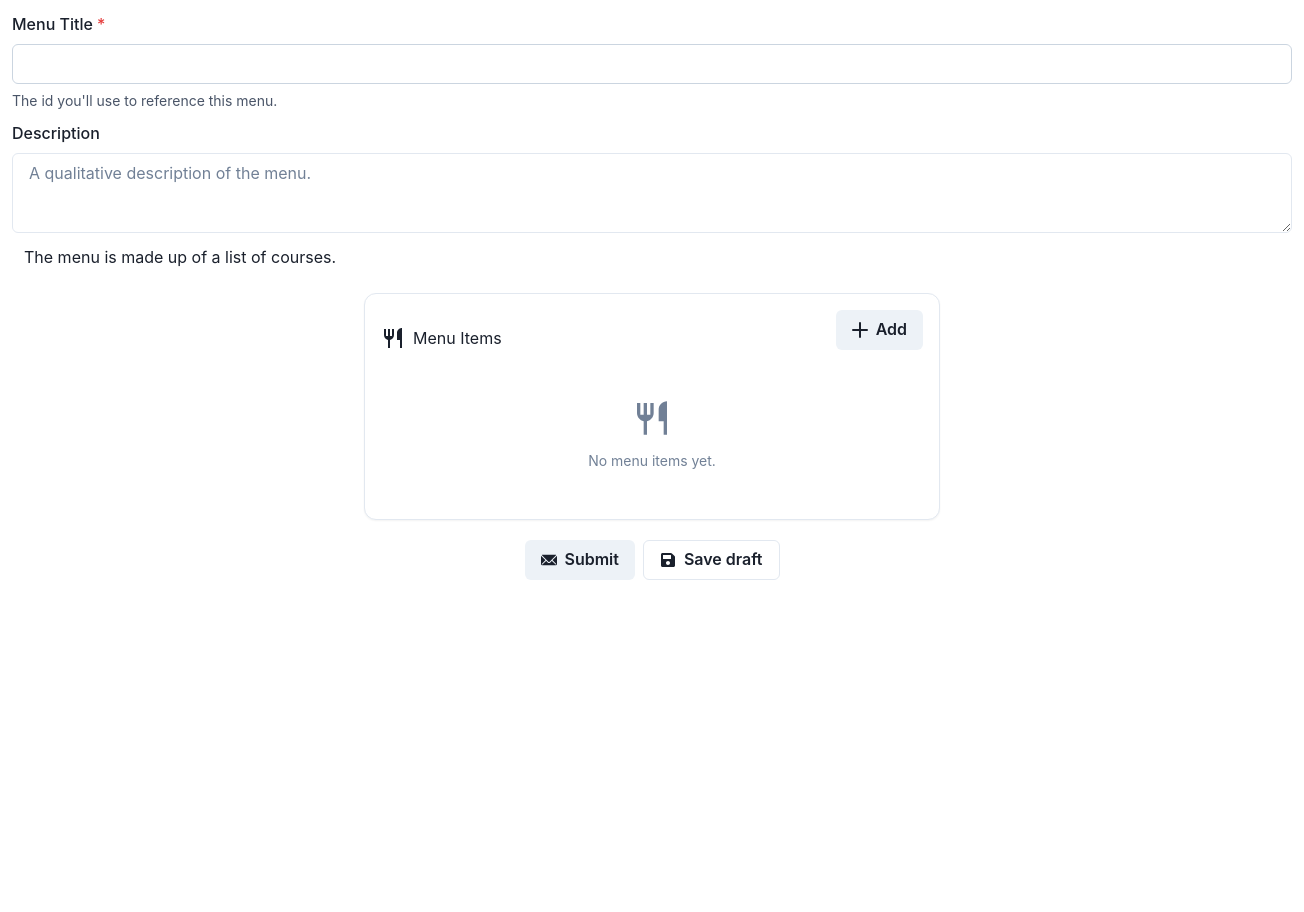
Test: MenuRequestForm › Submit functionality › requires dishes when submitting (not draft)
Enter title
Type "My Menu" into the field labelled "Menu Title*".
click(652, 64); type("My Menu")  # box [12, 44, 1292, 84]
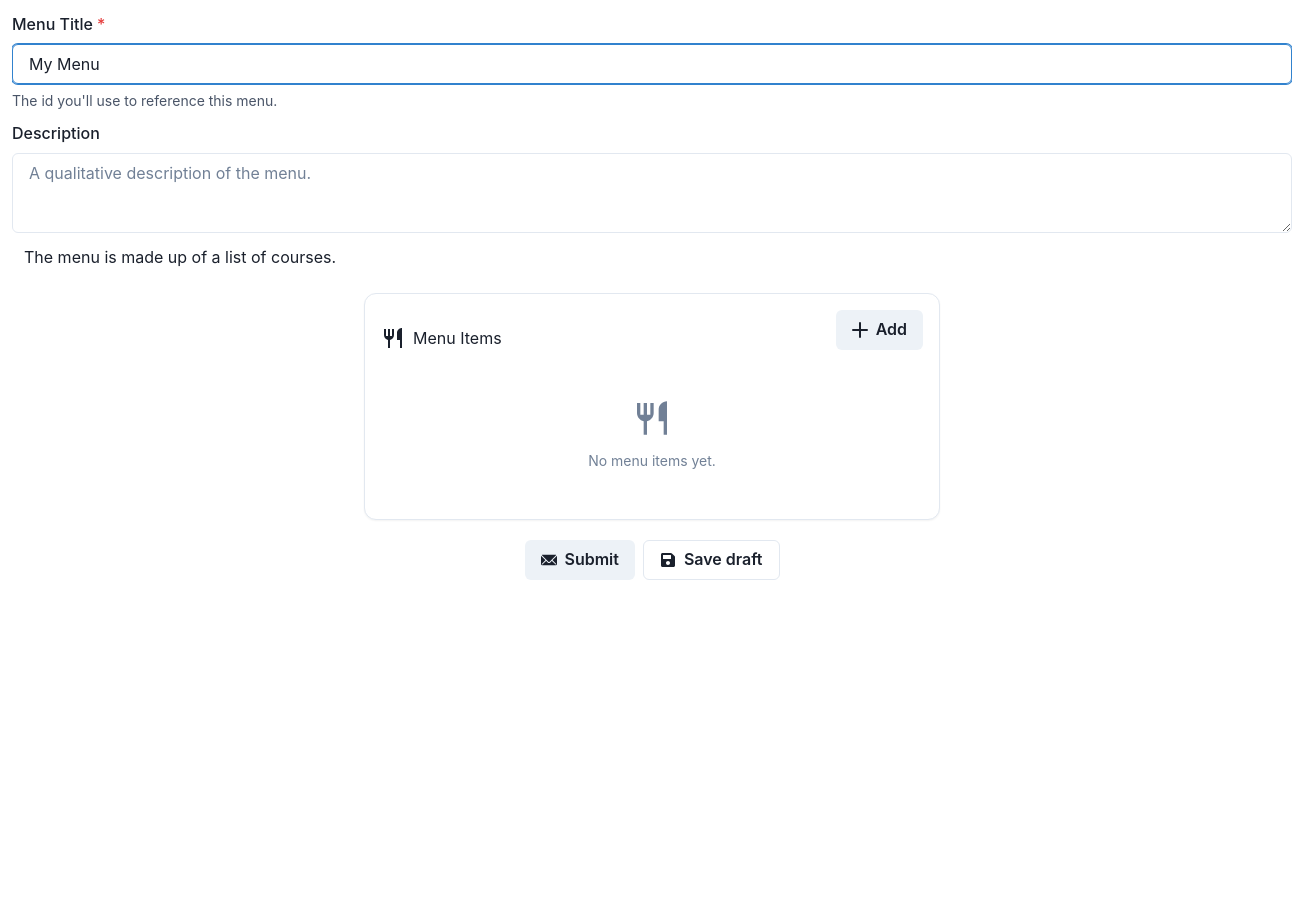
Try to submit without dishes
Click the button "Submit".
click(580, 560)  # box [524, 540, 635, 580]
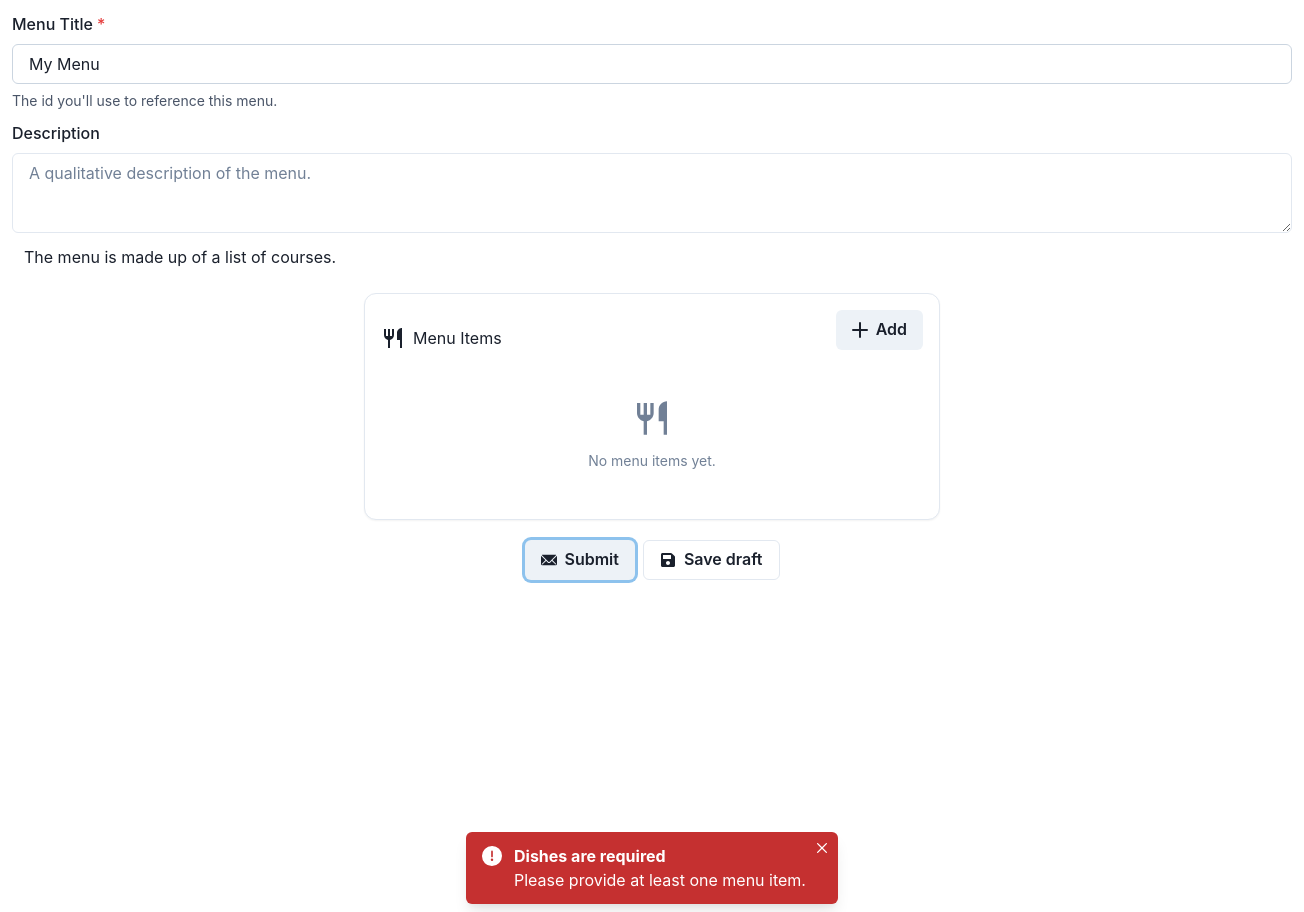
Now the text "Dishes are required" is shown, box [514, 846, 666, 866]
